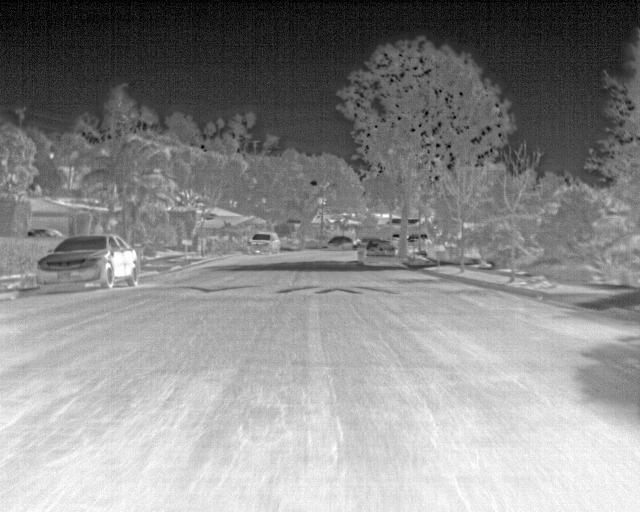car: (34, 221, 163, 314), (348, 217, 417, 279), (237, 224, 288, 264), (319, 225, 367, 260)
